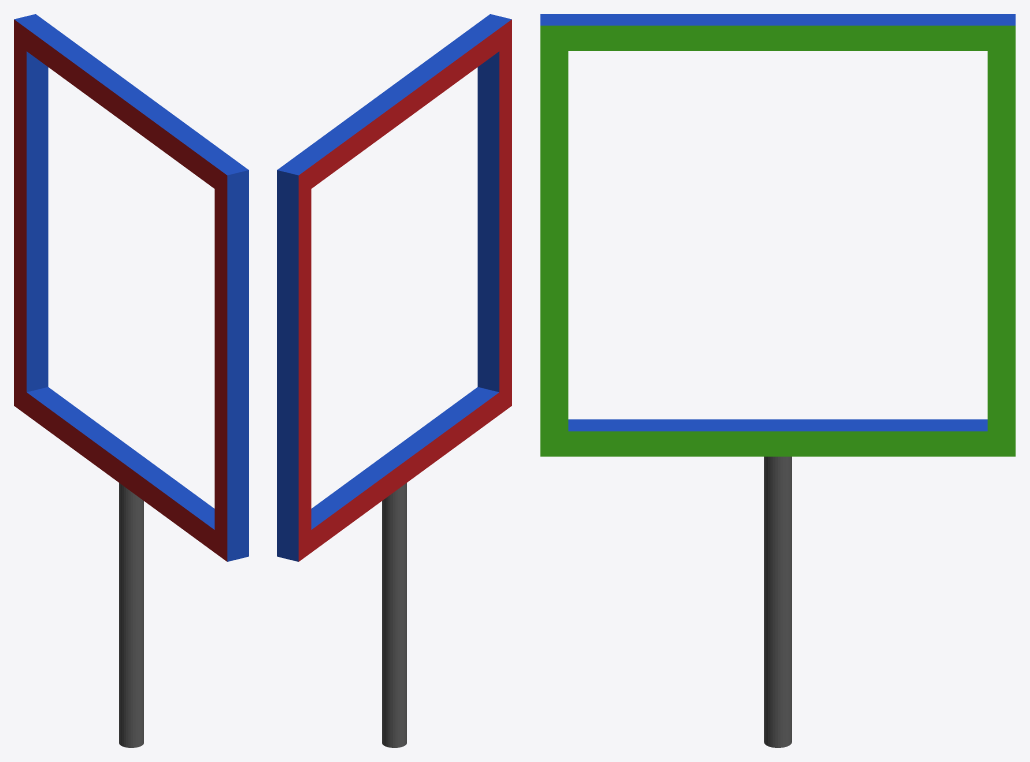
Rendered from frame_2.dae.
3 renders of one model, left to right at view 1: azimuth 30°, elevation 25°; view 2: azimuth 150°, elevation 25°; view 3: azimuth 270°, elevation 25°, orthographic. The views are drawn at different scales.
Visible parts, largest first — view 1: Plane; view 2: Plane; view 3: Plane.
Boxes of the visible parts, x1,y1,x2,y2 form: Plane: (14,14,248,747); Plane: (277,14,511,747); Plane: (540,14,1015,747).
Size of the model in its own units: 0.0647 by 1.1 by 1.84.
1 material, 1 textured.
